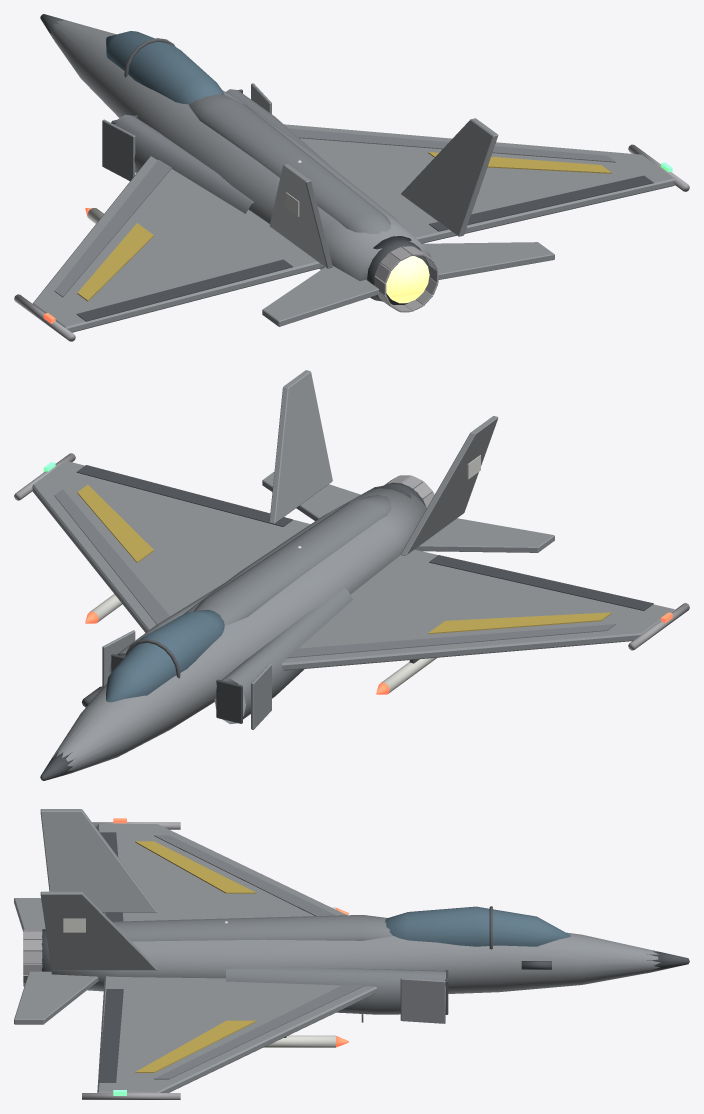
File: sokol.glb
The picture shows the model from 3 angles, top to bottom: view 1: azimuth 30°, elevation 25°; view 2: azimuth 150°, elevation 25°; view 3: azimuth 270°, elevation 25°; orthographic projection. The views are drawn at different scales.
Parts seen in each view (by area): view 1: Stihacka; view 2: Stihacka; view 3: Stihacka.
Part boxes in pixels (box(x1,y1,x2,y2)): Stihacka: box(14, 14, 689, 341); Stihacka: box(14, 370, 689, 780); Stihacka: box(14, 809, 689, 1099).
Size of the model in its own units: 8.54 by 2.35 by 8.92.
